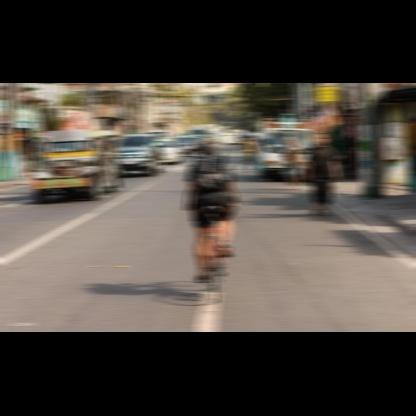Bicycle: (170, 178, 244, 304)
